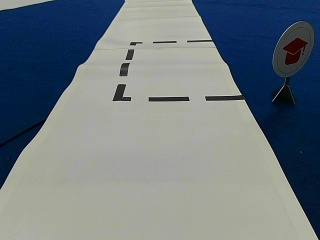school: (272, 22, 313, 76)
